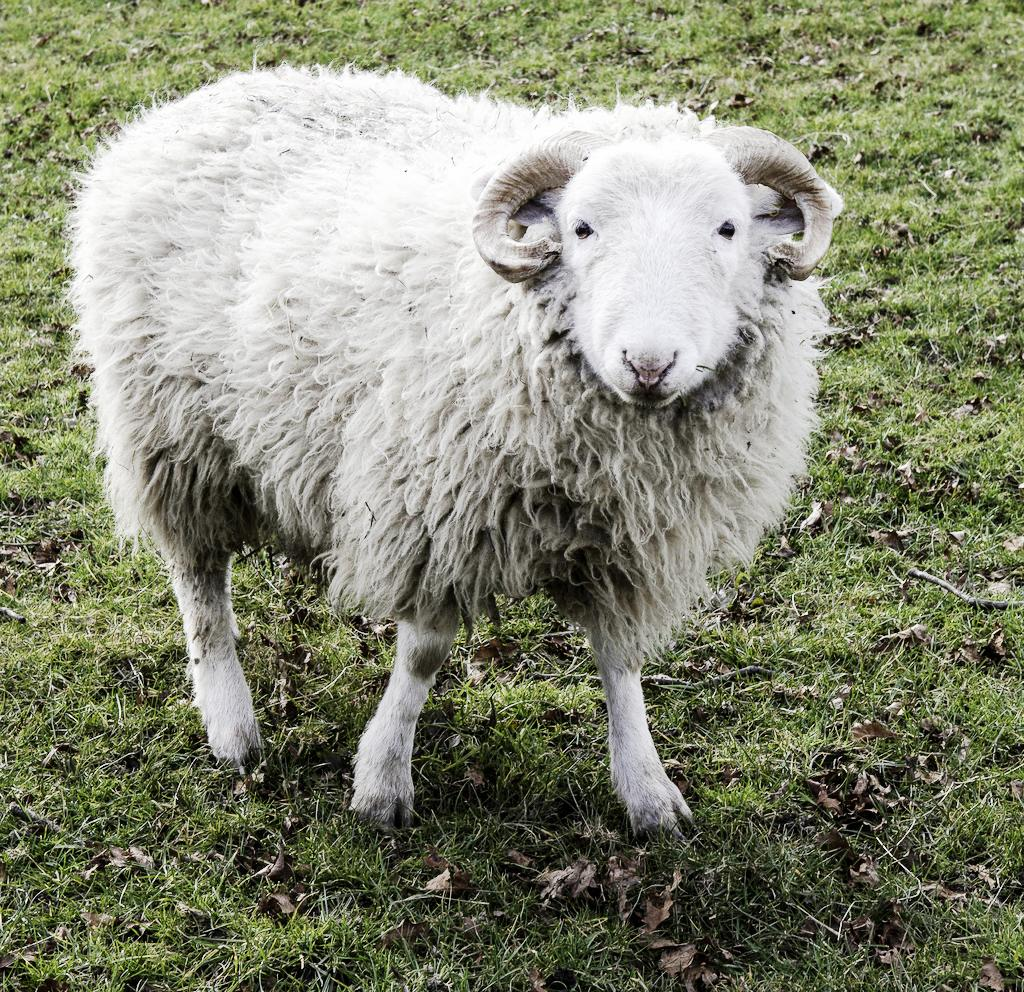Sheep: (56, 42, 848, 852)
